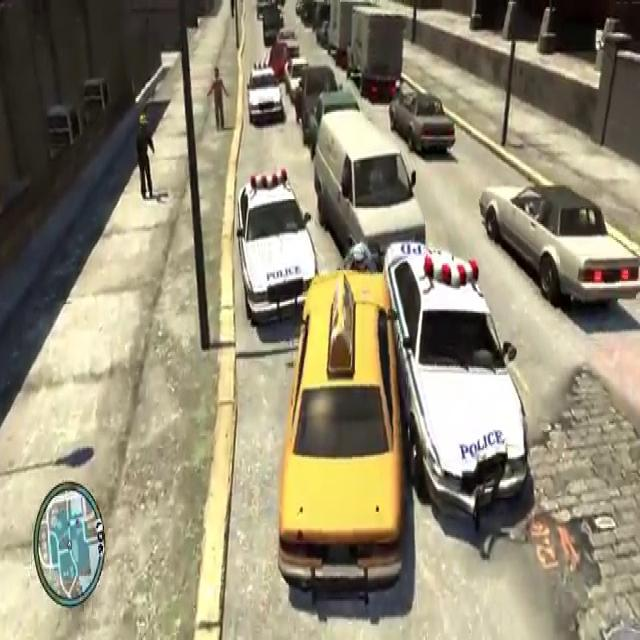moderate: (271, 223, 539, 615)
